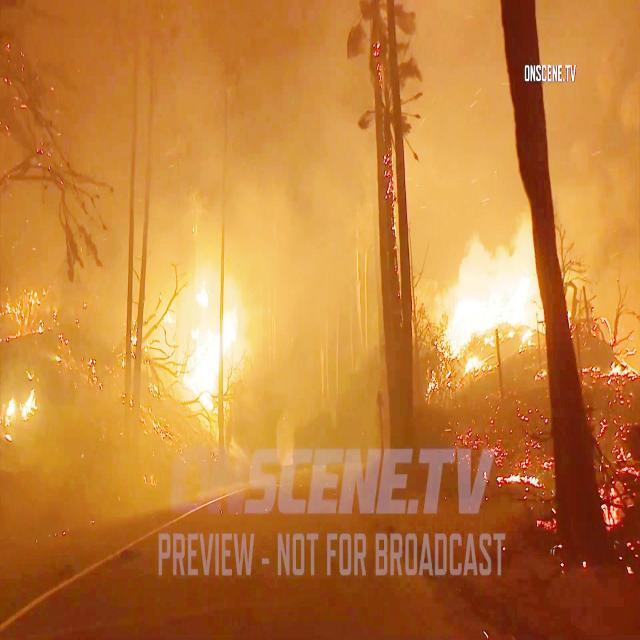Fire: (170, 288, 247, 396), (442, 260, 526, 333)
